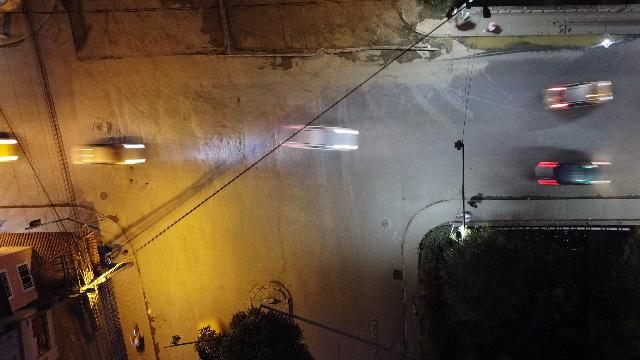Vehiculo: (541, 80, 613, 110), (535, 161, 611, 185)
